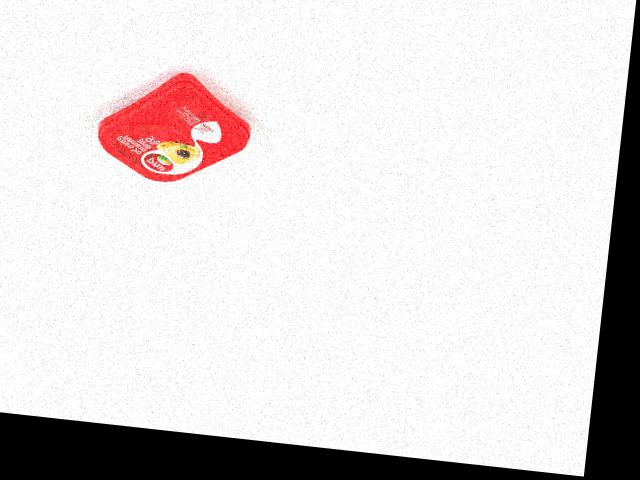cheese: (93, 63, 257, 191)
